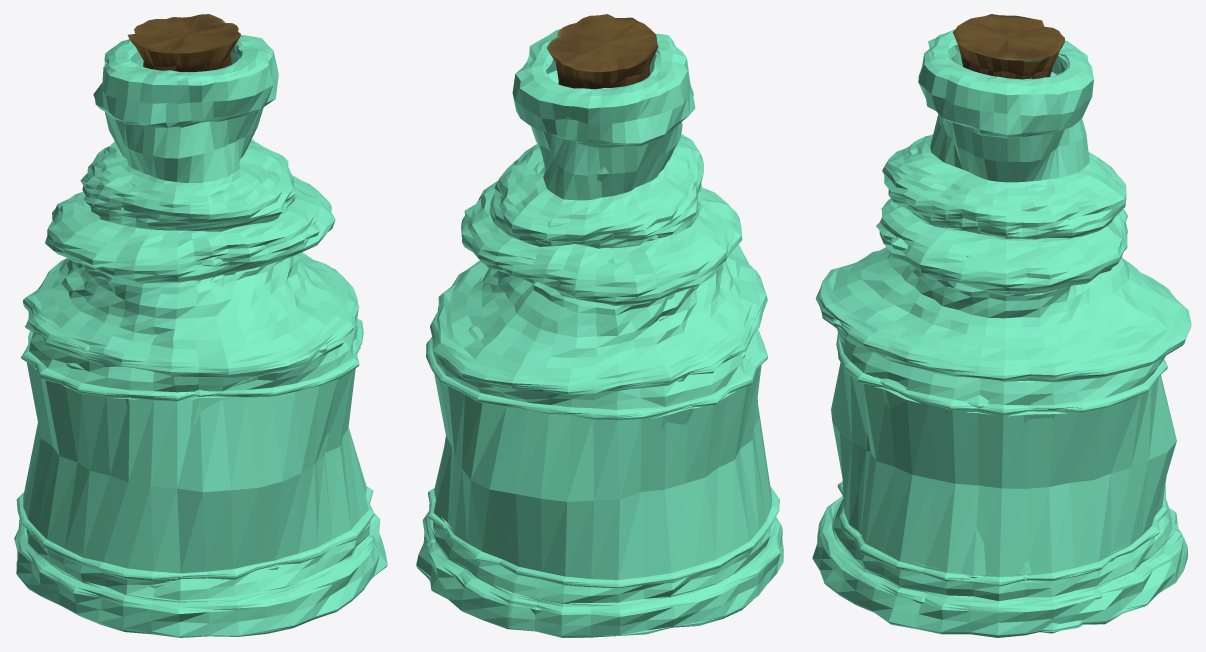
The model's file is crush_high_1.obj.
The picture shows the model from 3 angles, left to right: view 1: azimuth 30°, elevation 25°; view 2: azimuth 150°, elevation 25°; view 3: azimuth 270°, elevation 25°; orthographic projection.
Parts seen in each view (by area): view 1: model; view 2: model; view 3: model.
Part boxes in pixels (x1,y1,x2,y2): model: (14, 14, 387, 637); model: (416, 14, 783, 637); model: (812, 14, 1191, 637).
Bounding box in the file's own units: 0.0704 × 0.1123 × 0.073.
1 material, 1 textured.
